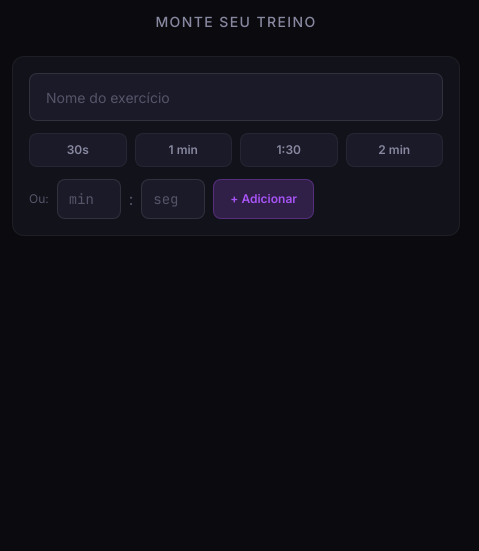
Test: WorkoutBuilder › adiciona exercício ao pressionar Enter no campo de nome
Type "Flexão" into the field with placeholder "Nome do exercício" at [236, 97], box [29, 73, 443, 121]
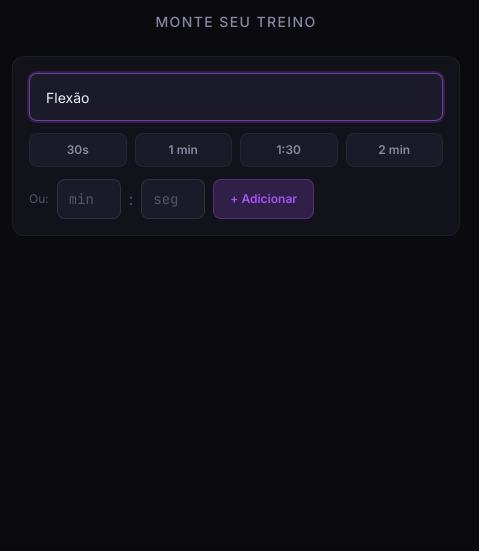
Click the button "1 min" at [183, 150], box [134, 133, 232, 167]
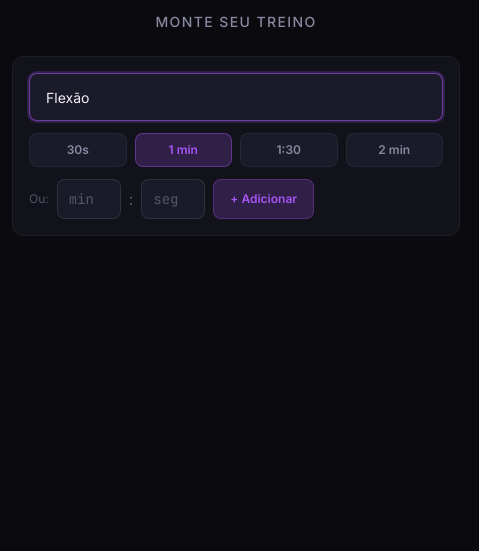
Press Enter
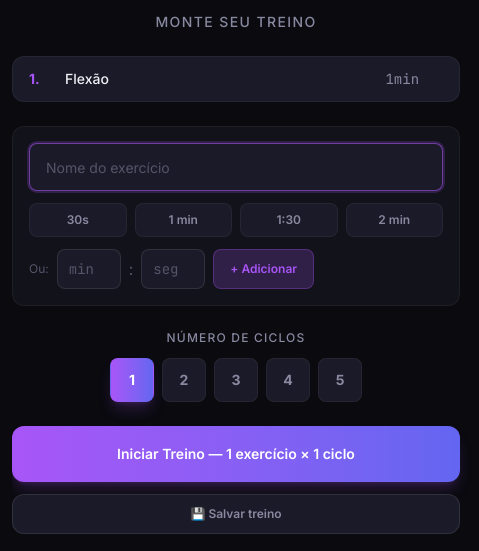
Expected: the text "Flexão" is shown, [65, 70, 109, 87]
